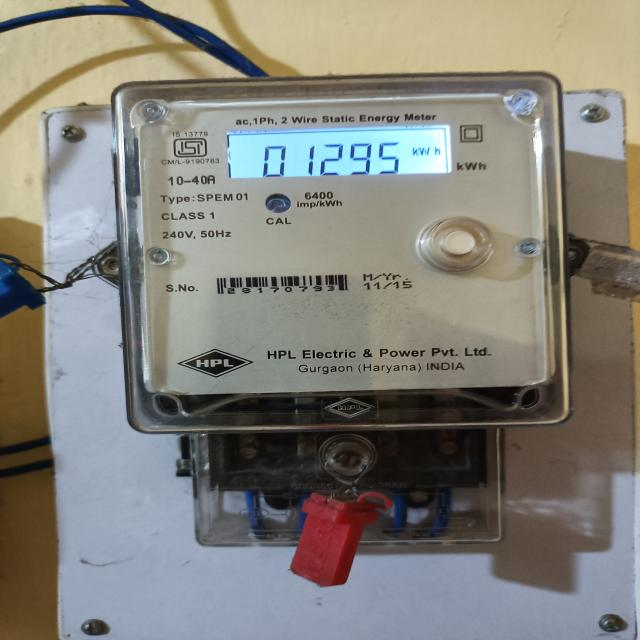display: (225, 126, 450, 180)
